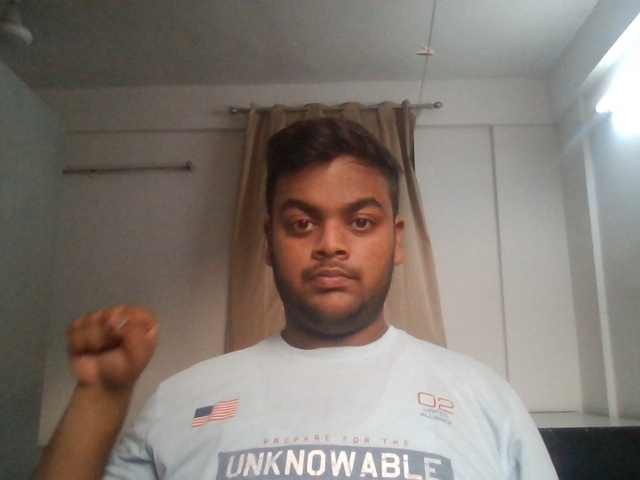Yes: (34, 275, 165, 442)
